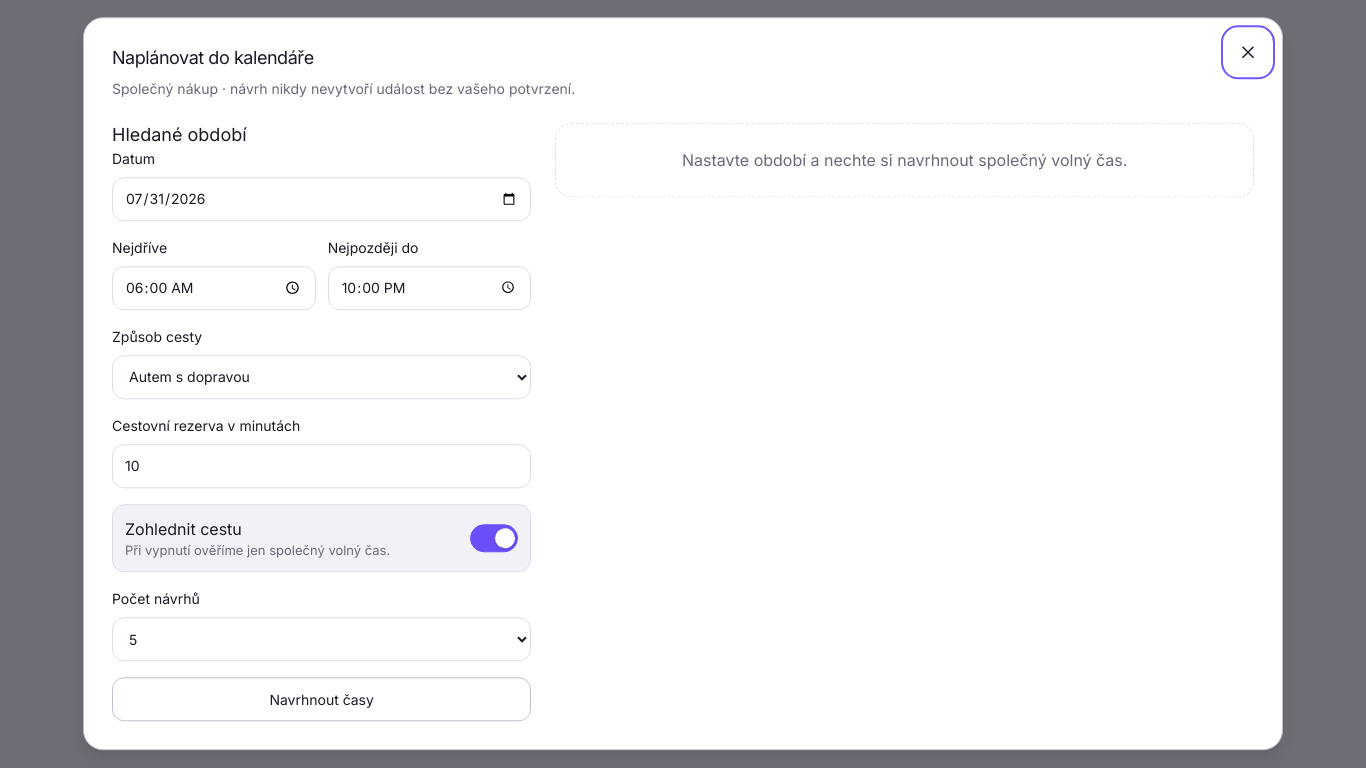
task scheduling dialog integration › refreshes proposals when confirmation reports a changed calendar
The width and height of the screenshot is (1366, 768).
Click the button "Navrhnout časy" at coordinates (322, 700), box [112, 678, 531, 722]
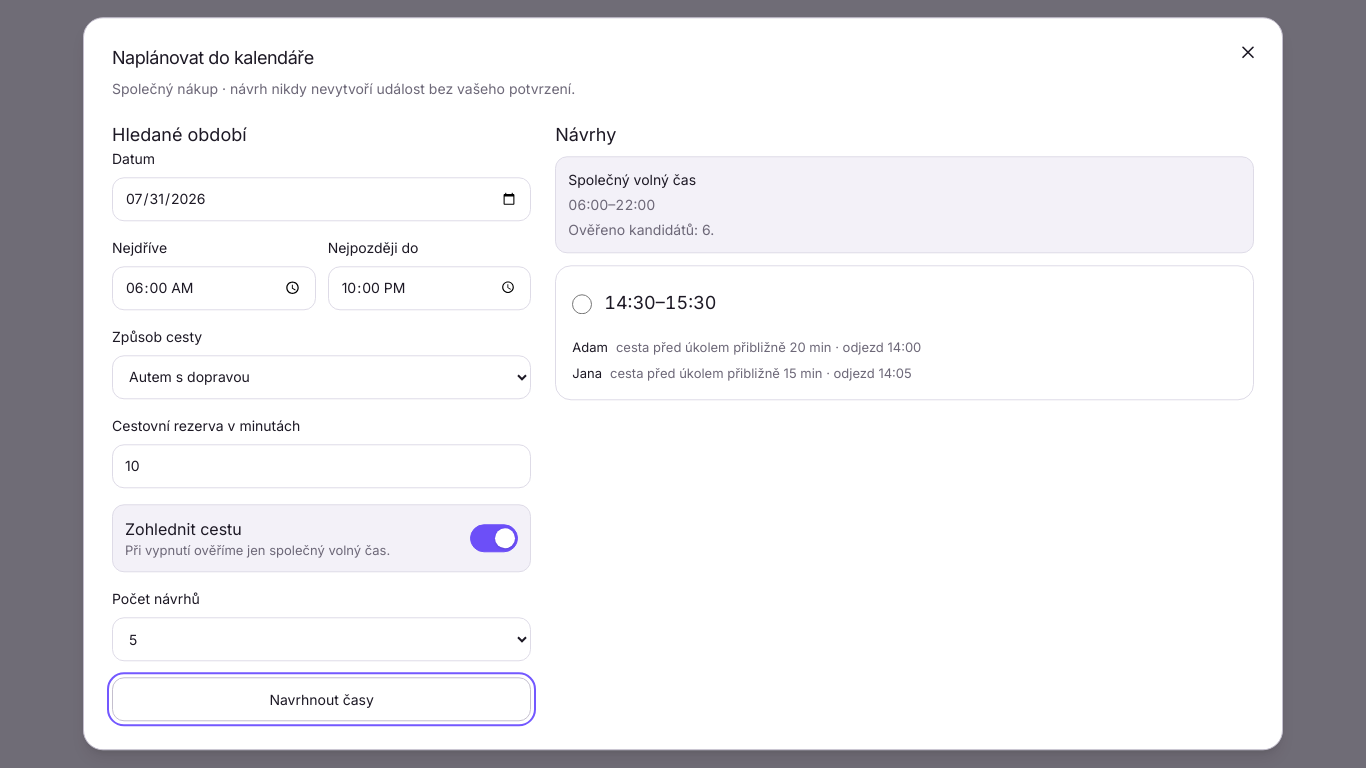
Click the radio button at coordinates (582, 304), box [572, 294, 592, 314]
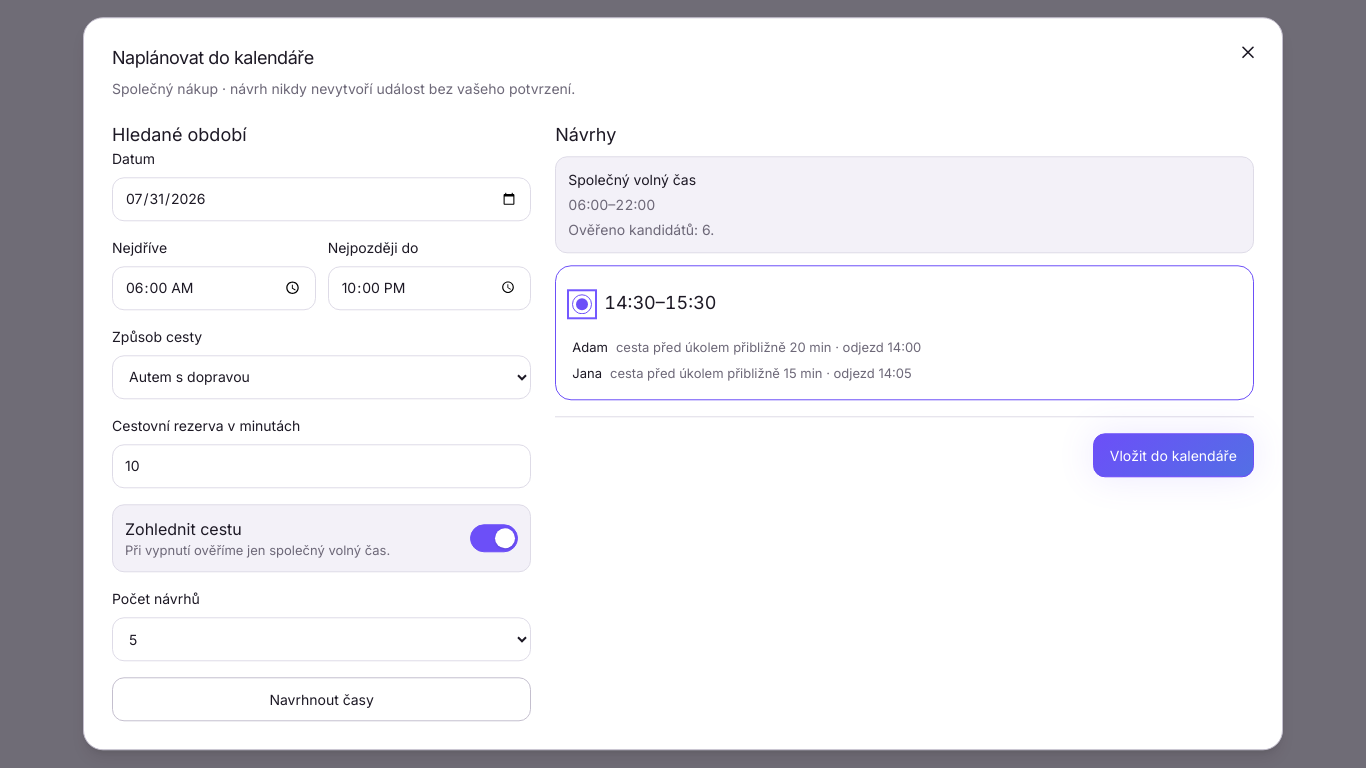
Click the button "Vložit do kalendáře" at coordinates (1173, 456), box [1093, 434, 1254, 478]
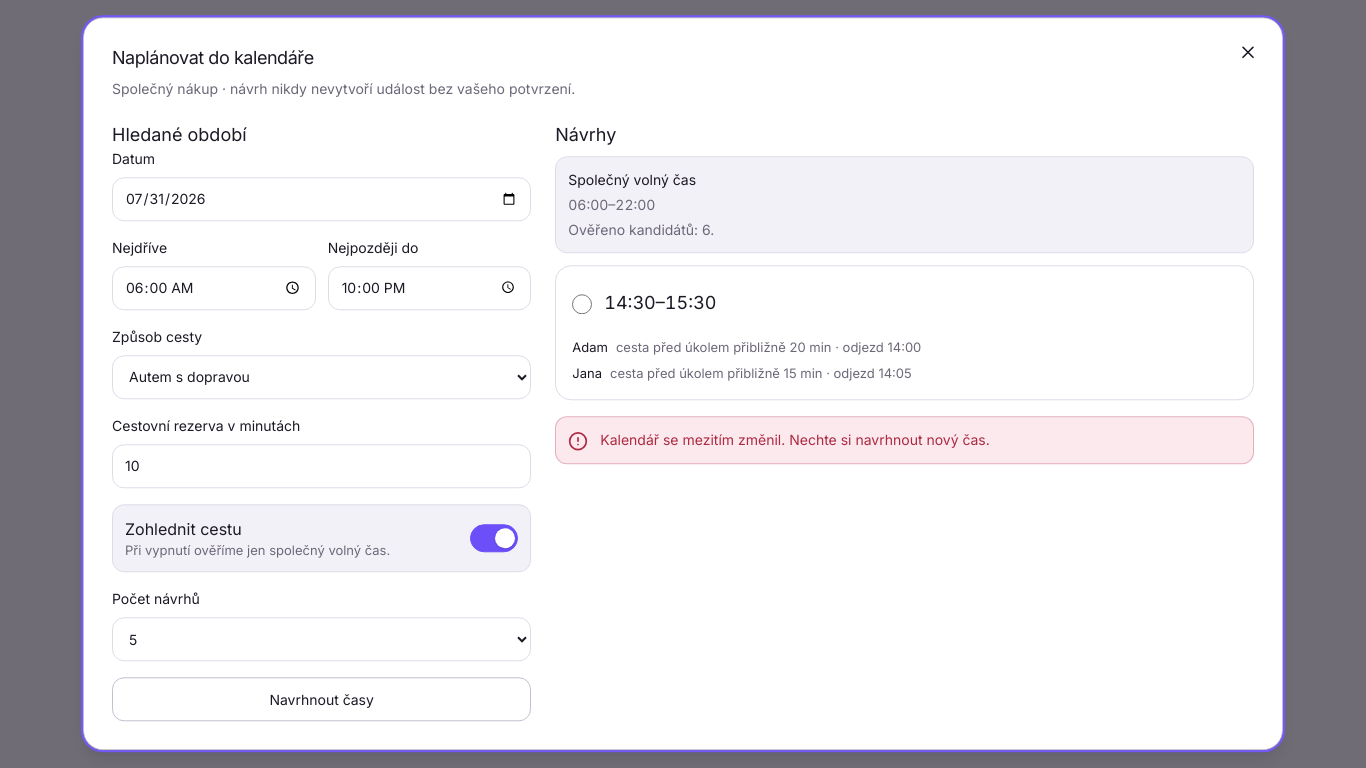
Now the radio button is not checked, box [572, 294, 592, 314]
Now the text "Kalendář se mezitím změnil. Nechte si navrhnout nový čas." is shown, box [600, 430, 990, 451]
